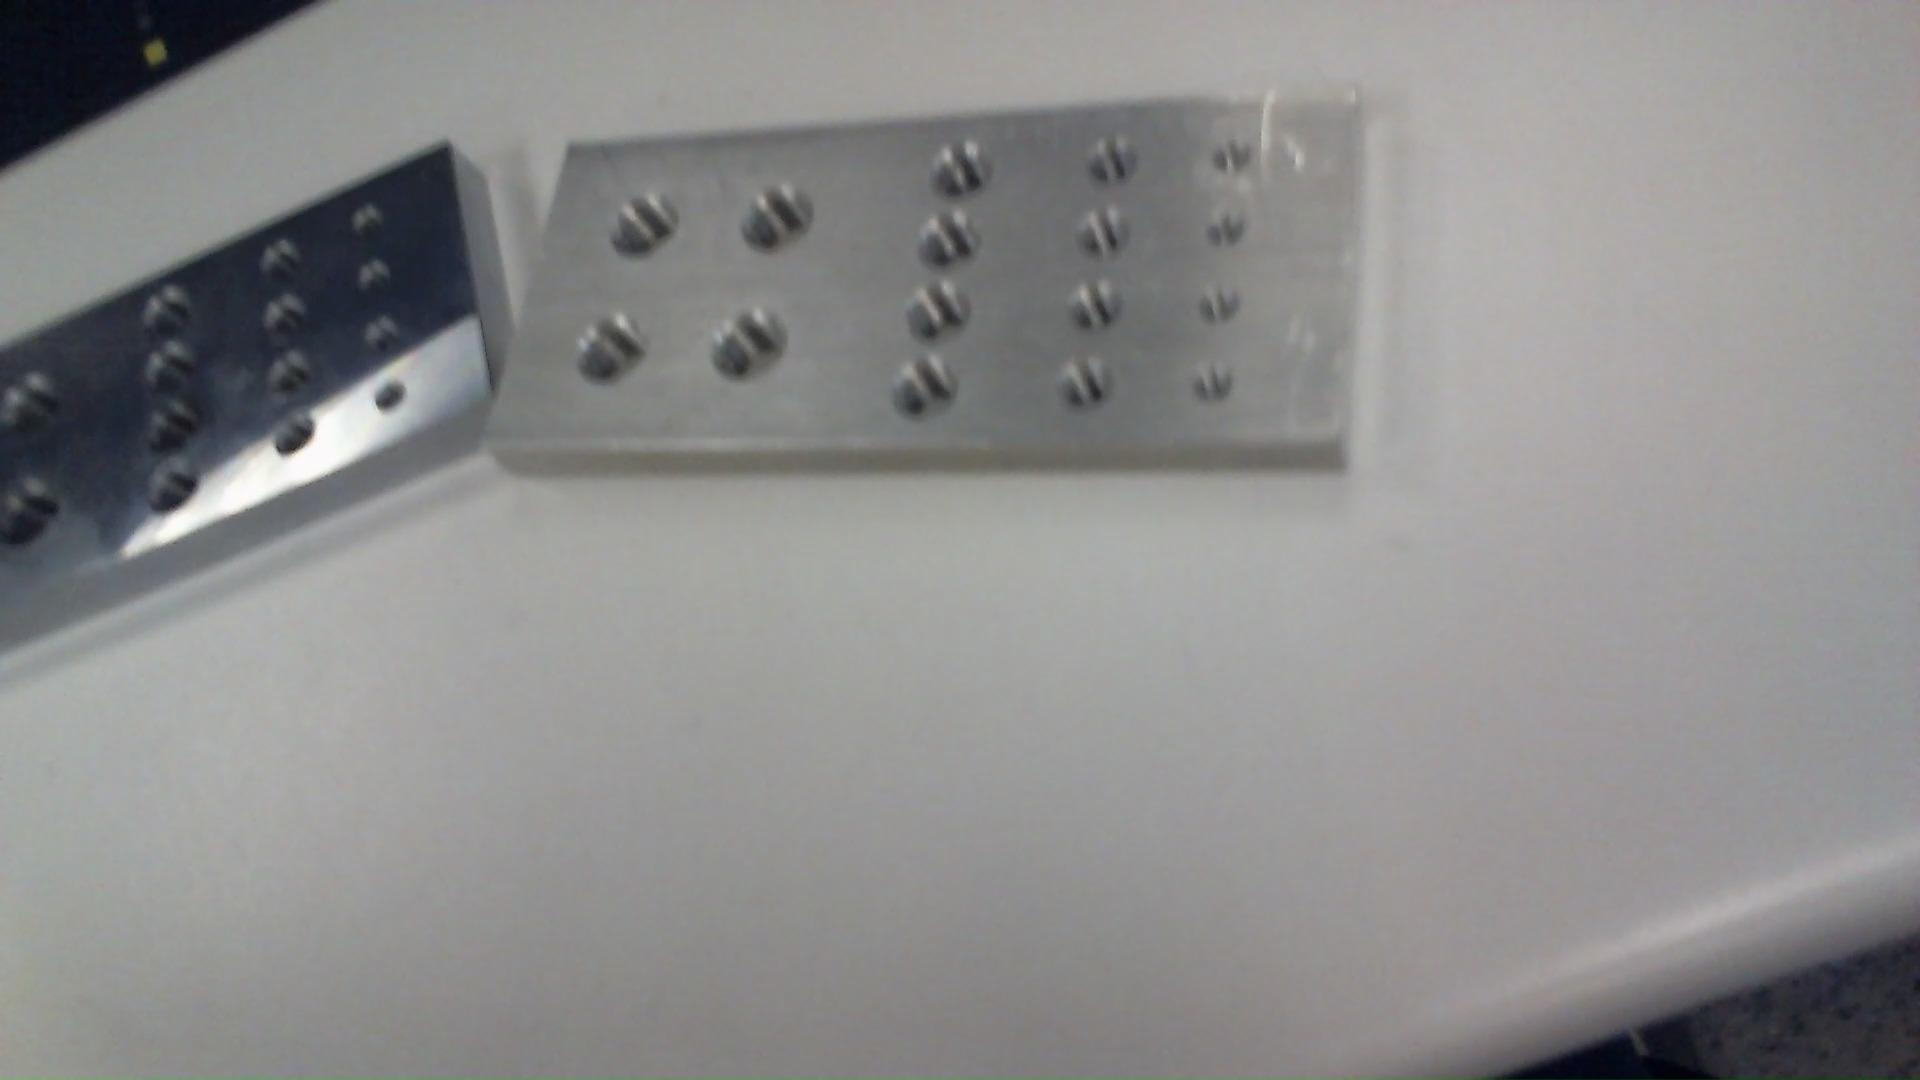hole: (604, 181, 686, 269), (574, 303, 651, 393), (733, 174, 814, 258), (898, 278, 985, 352), (0, 363, 82, 440), (882, 349, 968, 421), (715, 310, 791, 388), (0, 481, 70, 562), (919, 138, 1000, 208), (137, 462, 210, 524), (916, 214, 988, 272), (1055, 352, 1117, 413), (141, 282, 207, 339), (135, 400, 200, 454), (269, 404, 322, 465), (1192, 276, 1246, 334), (1068, 277, 1127, 330), (1076, 206, 1138, 256), (1077, 137, 1139, 186), (142, 345, 196, 396), (1203, 133, 1255, 183), (269, 345, 316, 400), (261, 291, 316, 338), (255, 237, 306, 285), (1188, 367, 1241, 411), (1203, 207, 1246, 252), (375, 372, 413, 418), (356, 256, 398, 297), (361, 316, 406, 353), (351, 200, 389, 241)
